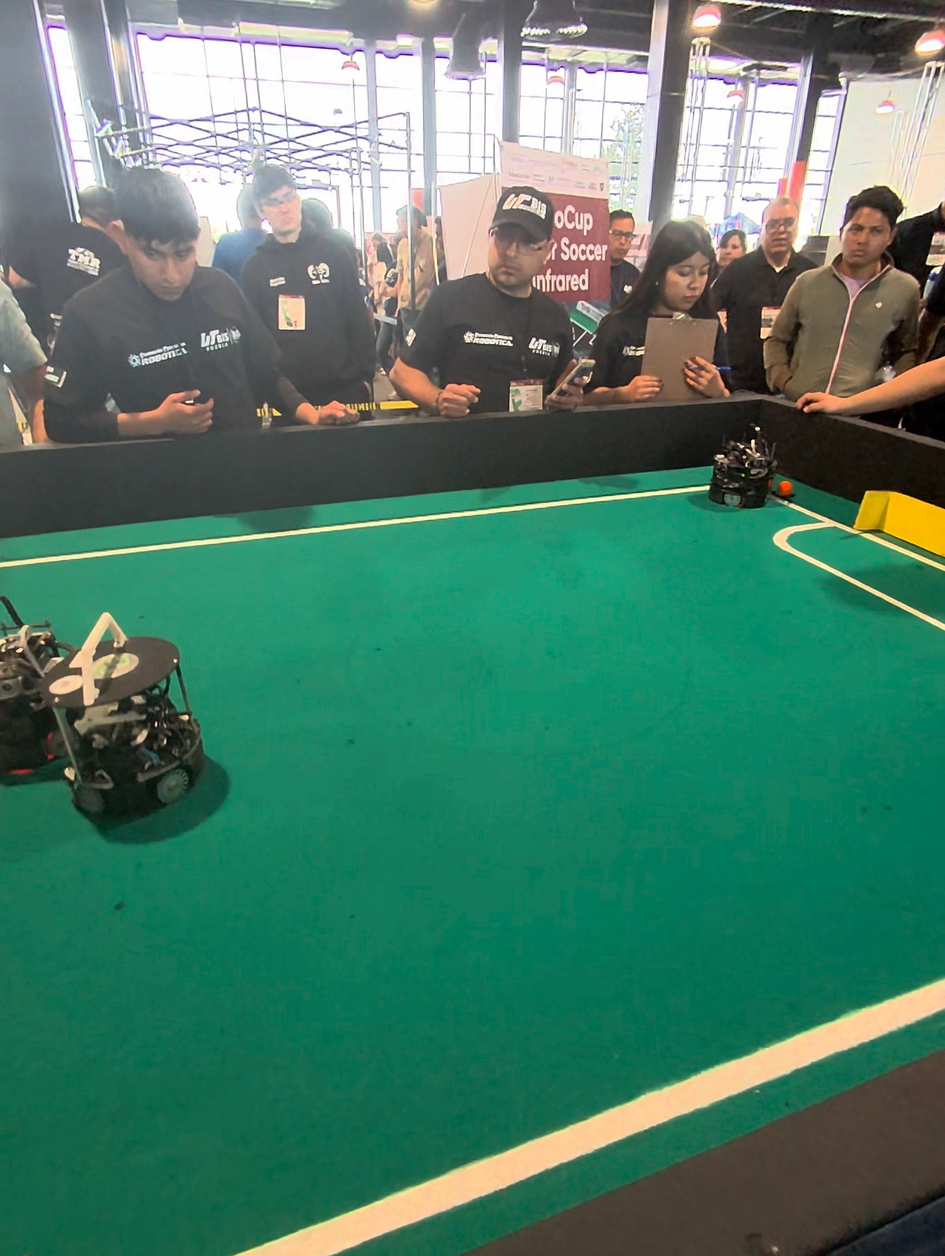Robot: (55, 604, 215, 848), (0, 591, 72, 798), (706, 421, 793, 518)
